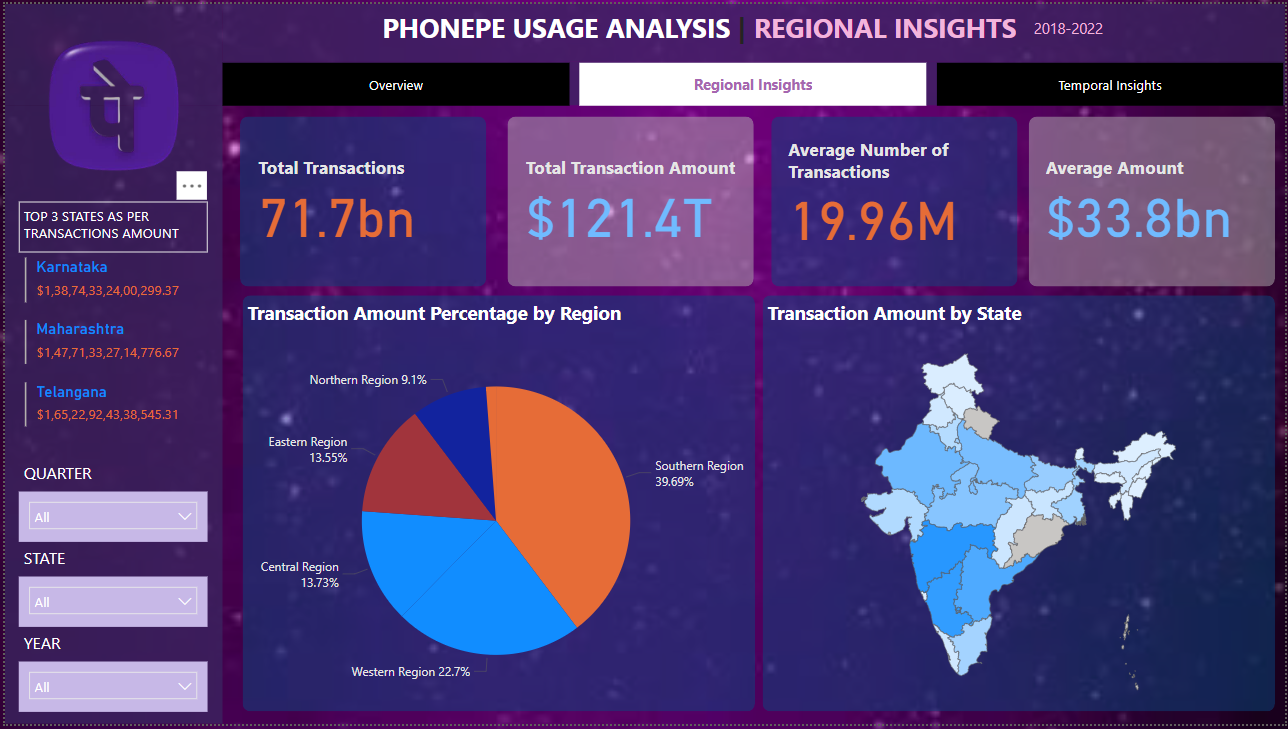

This screenshot's page, from the dashboard's own definition file:
{"tool":"powerbi","page":{"name":"Regional Insights","canvas":[1280,720],"ordinal":1},"visuals":[{"type":"shape","box":[757.5,291.2,512.5,416.2],"z":0},{"type":"shape","box":[235,112.5,246.2,170],"z":1000},{"type":"cardVisual","fields":{"Data":["Agg_Trans.Total Transactions"]},"box":[236.2,112.5,246.2,170],"z":2000},{"type":"shape","box":[217.5,0,1062.5,57.5],"z":3000},{"type":"shape","box":[217.5,57.5,1062.5,43.8],"z":4000},{"type":"shape","box":[0,101.2,217.5,618.8],"z":5000},{"type":"shape","box":[0,0,217.5,101.2],"z":6000},{"type":"textbox","box":[13.8,452.5,188.8,35],"z":7000},{"type":"textbox","box":[108.8,0,1171.2,51.2],"z":8000},{"type":"shape","box":[502.5,112.5,246.2,170],"z":9000},{"type":"shape","box":[766.2,112.5,246.2,170],"z":10000},{"type":"shape","box":[1023.8,112.5,246.2,170],"z":11000},{"type":"cardVisual","fields":{"Data":["Agg_Trans.Total Amount"]},"box":[503.8,112.5,246.2,170],"z":12000},{"type":"cardVisual","fields":{"Data":["Agg_Trans.Average Number of Transactions"]},"box":[766.2,90,246.2,201.2],"z":13000},{"type":"slicer","fields":{"Values":["Agg_Trans.State"]},"box":[13.8,572.5,188.8,50],"z":14000},{"type":"slicer","fields":{"Values":["Agg_Trans.Year"]},"box":[13.8,657.5,188.8,50],"z":15000},{"type":"textbox","box":[13.8,622.5,188.8,35],"z":16000},{"type":"slicer","fields":{"Values":["Agg_Trans.Quarter"]},"box":[13.8,487.5,188.8,50],"z":17000},{"type":"textbox","box":[13.8,537.5,188.8,35],"z":18000},{"type":"shapeMap","fields":{"Category":["Agg_Trans.State"],"Value":["Sum(Agg_Trans.Transaction_amount)"]},"box":[757.5,326.2,512.5,383.8],"z":19000},{"type":"textbox","box":[757.5,291.2,272.5,35],"z":20000},{"type":"shape","box":[237.5,291.2,512.5,416.2],"z":21000},{"type":"pieChart","fields":{"Category":["Agg_Trans.Region"],"Y":["Sum(Agg_Trans.Transaction_amount)"]},"box":[235,326.2,512.5,381.2],"z":22000},{"type":"textbox","box":[237.5,291.2,498.8,35],"z":23000},{"type":"image","box":[0,0,217.5,203.8],"z":24000},{"type":"multiRowCard","fields":{"Values":["Agg_Trans.State","Sum(Agg_Trans.Transaction_amount)"]},"box":[15,248.8,188.8,203.8],"z":25000},{"type":"textbox","box":[13.8,197.5,188.8,51.2],"z":26000},{"type":"pageNavigator","box":[217.5,58.8,1062.5,43.8],"z":27000},{"type":"textbox","box":[1023.8,8.8,188.8,40],"z":28000},{"type":"cardVisual","fields":{"Data":["Agg_Trans.Average Amount"]},"box":[1023.8,112.5,246.2,170],"z":29000}]}

Visuals, with their boxes in screenshot pixels (x1, y1, x2, y2), scaled from the page's 1280x720 canvas onto the 1288x729 screenshot:
shape: bbox(762, 295, 1278, 716)
shape: bbox(236, 114, 484, 286)
cardVisual - Agg_Trans.Total Transactions: bbox(238, 114, 485, 286)
shape: bbox(219, 0, 1287, 58)
shape: bbox(219, 58, 1287, 103)
shape: bbox(0, 102, 219, 728)
shape: bbox(0, 0, 219, 102)
textbox: bbox(14, 458, 204, 494)
textbox: bbox(109, 0, 1287, 52)
shape: bbox(506, 114, 753, 286)
shape: bbox(771, 114, 1019, 286)
shape: bbox(1030, 114, 1278, 286)
cardVisual - Agg_Trans.Total Amount: bbox(507, 114, 755, 286)
cardVisual - Agg_Trans.Average Number of Transactions: bbox(771, 91, 1019, 295)
slicer - Agg_Trans.State: bbox(14, 580, 204, 630)
slicer - Agg_Trans.Year: bbox(14, 666, 204, 716)
textbox: bbox(14, 630, 204, 666)
slicer - Agg_Trans.Quarter: bbox(14, 494, 204, 544)
textbox: bbox(14, 544, 204, 580)
shapeMap - Agg_Trans.State x Sum(Agg_Trans.Transaction_amount): bbox(762, 330, 1278, 719)
textbox: bbox(762, 295, 1036, 330)
shape: bbox(239, 295, 755, 716)
pieChart - Agg_Trans.Region x Sum(Agg_Trans.Transaction_amount): bbox(236, 330, 752, 716)
textbox: bbox(239, 295, 741, 330)
image: bbox(0, 0, 219, 206)
multiRowCard - Agg_Trans.State x Sum(Agg_Trans.Transaction_amount): bbox(15, 252, 205, 458)
textbox: bbox(14, 200, 204, 252)
pageNavigator: bbox(219, 60, 1287, 104)
textbox: bbox(1030, 9, 1220, 49)
cardVisual - Agg_Trans.Average Amount: bbox(1030, 114, 1278, 286)
